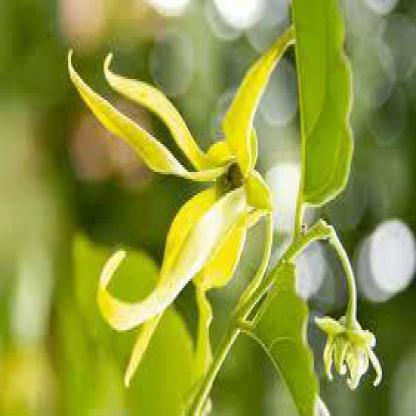Kenanga: (124, 62, 275, 292)
